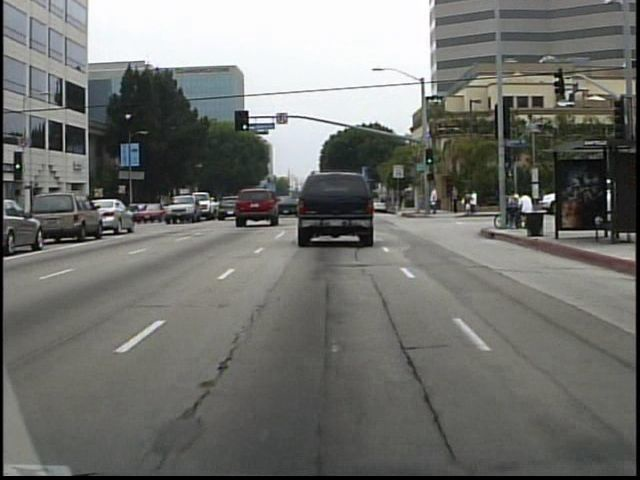person: (427, 184, 441, 219), (449, 181, 462, 217), (394, 186, 406, 212)
